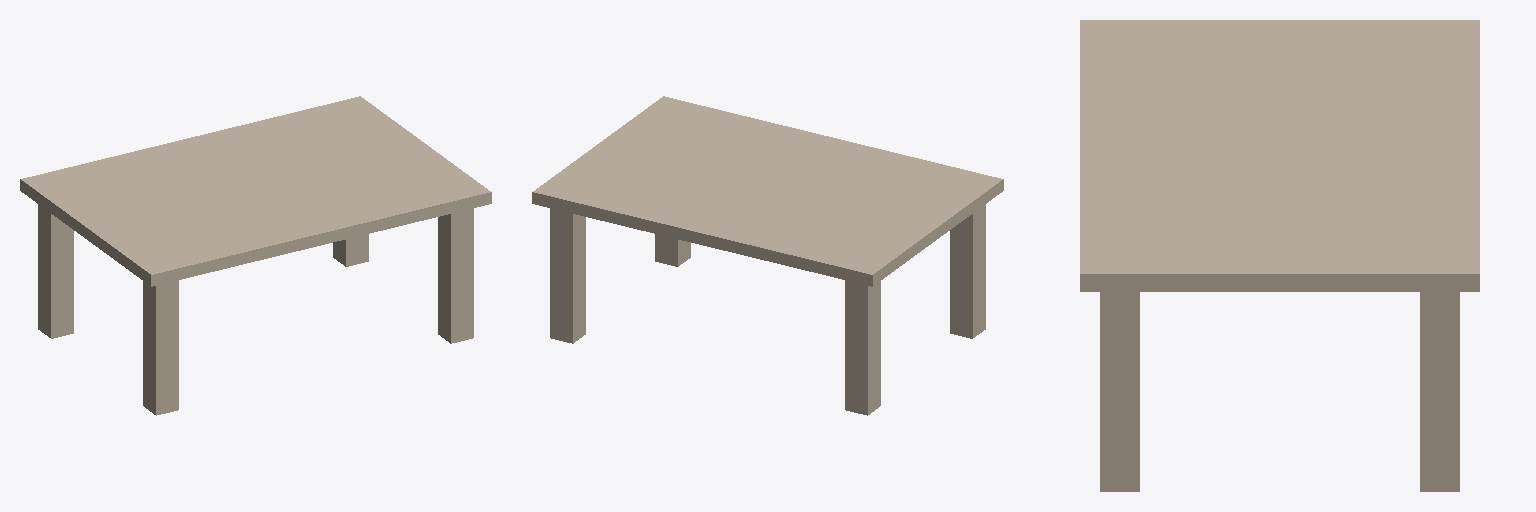
robot.urdf — table.urdf:
<?xml version="0.0" ?>
<robot name="table.urdf">
  <link name="baseLink">
    <contact>
      <lateral_friction value="1.0"/>
    </contact>
    <inertial>
      <origin rpy="0 0 0" xyz="0 0 0"/>
       <mass value=".0"/>
       <inertia ixx="1" ixy="0" ixz="0" iyy="1" iyz="0" izz="1"/>
    </inertial>

    <visual>
      <origin rpy="0 0 0" xyz="0 0 0.6"/>
      <geometry>
		<box size="1.5 1 0.05"/>
      </geometry>
      <material name="white">
        <color rgba="0.80 0.749 0.682 1"/>
      </material>
    </visual>
    <collision>
      <origin rpy="0 0 0" xyz="0 0 0.6"/>
      <geometry>
	 	<box size="1.5 1 0.05"/>
      </geometry>
    </collision>

	<visual>
      <origin rpy="0 0 0" xyz="-0.65 -0.4 0.29"/>
      <geometry>
	    <box size="0.1 0.1 0.58"/>
      </geometry>
	  <material name="white">
        <color rgba="0.80 0.749 0.682 1"/>
      </material>
    </visual>
    <collision>
      <origin rpy="0 0 0" xyz="-0.65 -0.4 0.29"/>
      <geometry>
	 	<box size="0.1 0.1 0.58"/>
      </geometry>
    </collision>

    <visual>
      <origin rpy="0 0 0" xyz="-0.65 0.4 0.29"/>
      <geometry>
        <box size="0.1 0.1 0.58"/>
      </geometry>
	  <material name="white">
        <color rgba="0.80 0.749 0.682 1"/>
      </material>
	</visual>
    <collision>
      <origin rpy="0 0 0" xyz="-0.65 0.4 0.29"/>
      <geometry>
	 	<box size="0.1 0.1 0.58"/>
      </geometry>
    </collision>

    <visual>
      <origin rpy="0 0 0" xyz="0.65 -0.4 0.29"/>
      <geometry>
        <box size="0.1 0.1 0.58"/>
      </geometry>
	  <material name="white">
        <color rgba="0.80 0.749 0.682 1"/>
      </material>
	</visual>
    <collision>
      <origin rpy="0 0 0" xyz="0.65 -0.4 0.29"/>
      <geometry>
	 	<box size="0.1 0.1 0.58"/>
      </geometry>
    </collision>

    <visual>
      <origin rpy="0 0 0" xyz="0.65 0.4 0.29"/>
      <geometry>
        <box size="0.1 0.1 0.58"/>
      </geometry>
      <material name="white">
        <color rgba="0.80 0.749 0.682 1"/>
      </material>
    </visual>
    <collision>
      <origin rpy="0 0 0" xyz="0.65 0.4 0.29"/>
      <geometry>
	 	<box size="0.1 0.1 0.58"/>
      </geometry>
    </collision>

  </link>
</robot>

--- Facts derived from the render (not from the file) ---
Views: 3 orthographic renders of the robot side by side, from view 1: azimuth 30°, elevation 25°; view 2: azimuth 150°, elevation 25°; view 3: azimuth 270°, elevation 25°.
Robot: table.urdf — 1 links, 0 joints (none); root link baseLink; default pose: every joint at zero.
Links seen in each view (by area): view 1: baseLink; view 2: baseLink; view 3: baseLink.
Boxes of the visible links, box(x1,y1,x2,y2) form: baseLink: box(20, 96, 491, 415); baseLink: box(532, 96, 1003, 415); baseLink: box(1080, 20, 1479, 491).
Bounding box of the posed robot: 1.5 × 1 × 0.625 m (x, y, z).
Geometry: primitives only (box / cylinder / sphere), no mesh files.